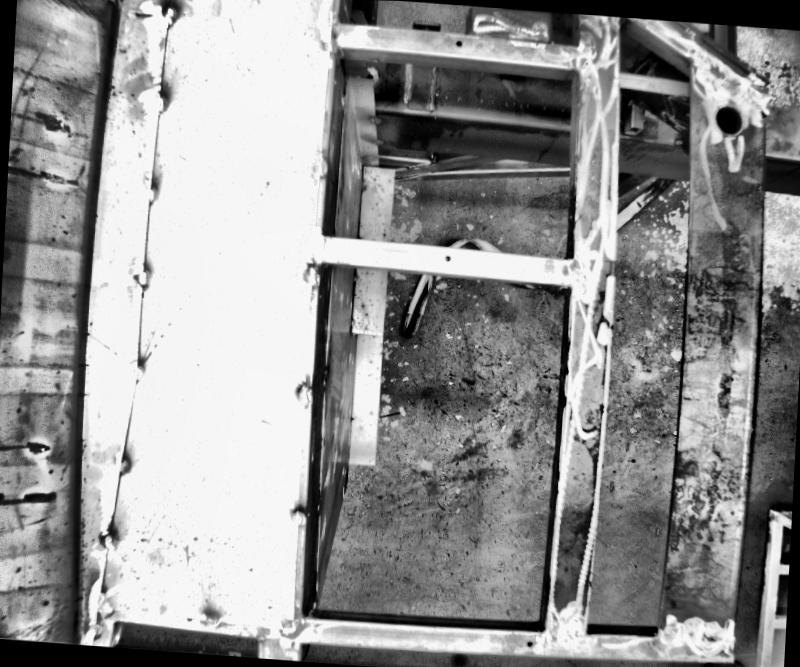hole: (710, 99, 746, 137), (443, 253, 451, 261), (524, 639, 532, 646), (454, 38, 462, 45)
